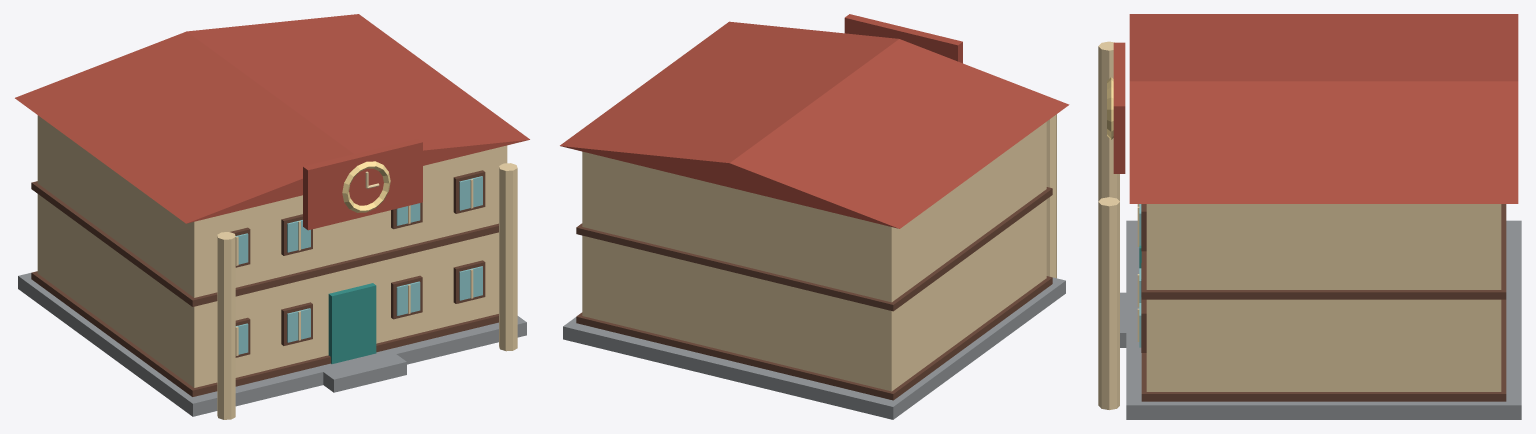
The model's file is town_hall.glb.
3 views of the same model, side by side, from view 1: azimuth 30°, elevation 25°; view 2: azimuth 150°, elevation 25°; view 3: azimuth 270°, elevation 25° (orthographic). The views are drawn at different scales.
Parts seen in each view (by area): view 1: gable_roof, walls, foundation, signboard, cornice.001, cornice, column, column.001, door, step, clock, window_glass.002 (+8 smaller); view 2: walls, gable_roof, foundation, cornice, cornice.001, signboard, column; view 3: gable_roof, walls, foundation, column.001, cornice, cornice.001, column, signboard, step, clock.
Boxes of the visible parts, box(x1,y1,x2,y2) form: gable_roof: box(15, 14, 529, 223); walls: box(37, 115, 507, 387); foundation: box(18, 273, 526, 416); signboard: box(303, 138, 422, 230); cornice.001: box(31, 181, 498, 306); cornice: box(31, 271, 498, 396); column: box(217, 232, 235, 419); column.001: box(499, 163, 517, 351); door: box(328, 283, 376, 363); step: box(323, 349, 406, 392); clock: box(342, 161, 390, 212); window_glass.002: box(396, 281, 420, 315); walls: box(582, 122, 1046, 391); gable_roof: box(560, 21, 1069, 228); foundation: box(563, 277, 1065, 419); cornice: box(576, 276, 1052, 400); cornice.001: box(576, 187, 1052, 311); signboard: box(844, 14, 962, 63); column: box(1046, 114, 1056, 278); gable_roof: box(1129, 14, 1518, 203); walls: box(1146, 204, 1501, 391); foundation: box(1126, 220, 1521, 419); column.001: box(1098, 197, 1119, 409); cornice: box(1141, 299, 1506, 401); cornice.001: box(1141, 204, 1506, 299); column: box(1098, 41, 1119, 201); signboard: box(1113, 42, 1125, 173); step: box(1120, 292, 1139, 347); clock: box(1107, 77, 1113, 139).
Size of the model in its own units: 6.6 by 4.1 by 6.21.
